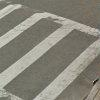Crosswalk: (6, 5, 100, 100)
